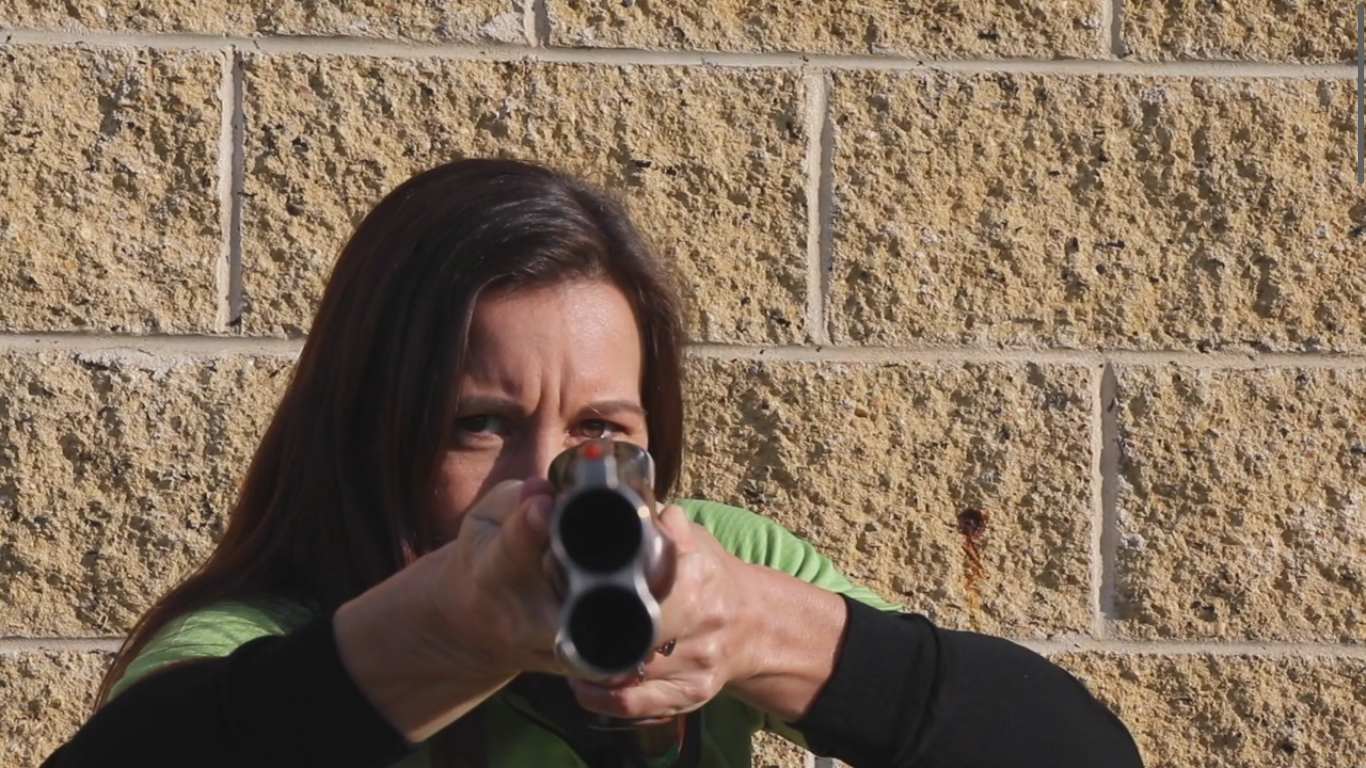gun: (542, 424, 691, 766)
p_w_gun: (37, 149, 1145, 768)
